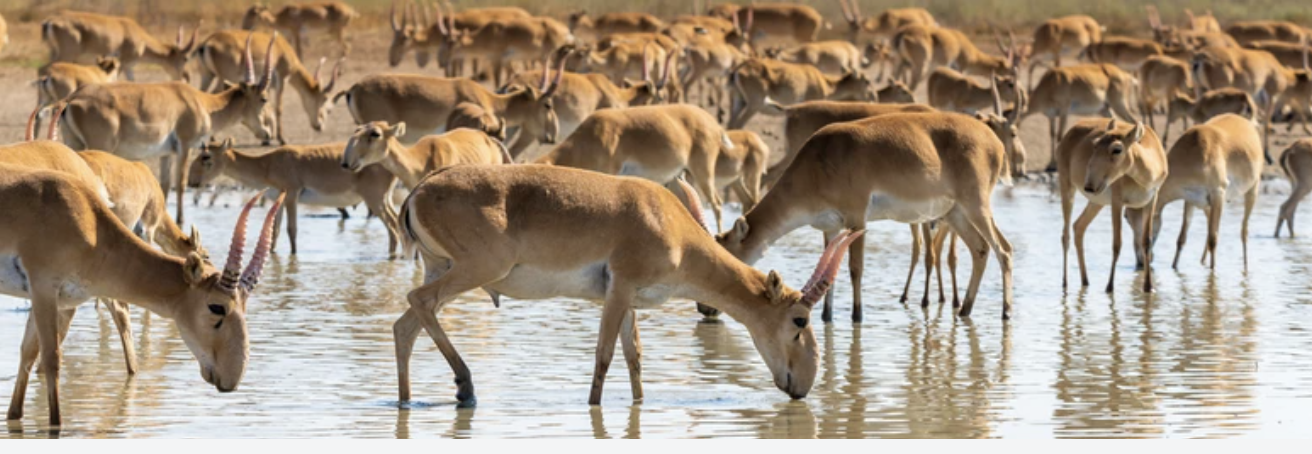saiga: (347, 152, 858, 444)
